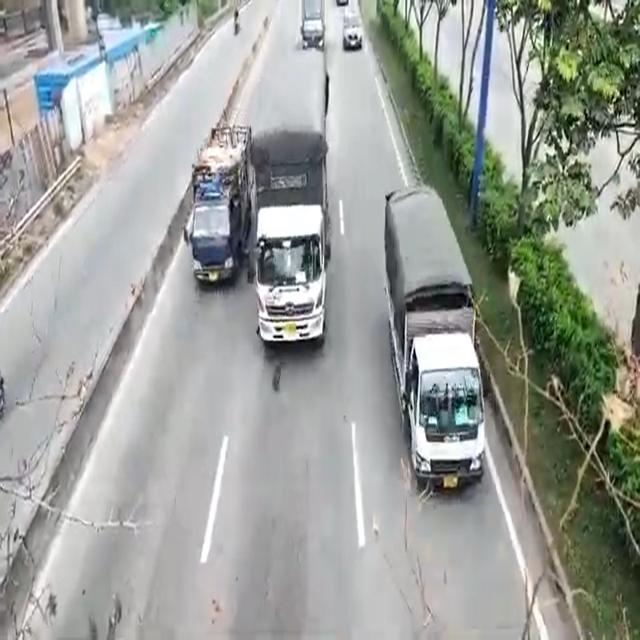car: (339, 6, 365, 56)
truck: (386, 190, 487, 500), (256, 54, 325, 348), (197, 129, 245, 294)
